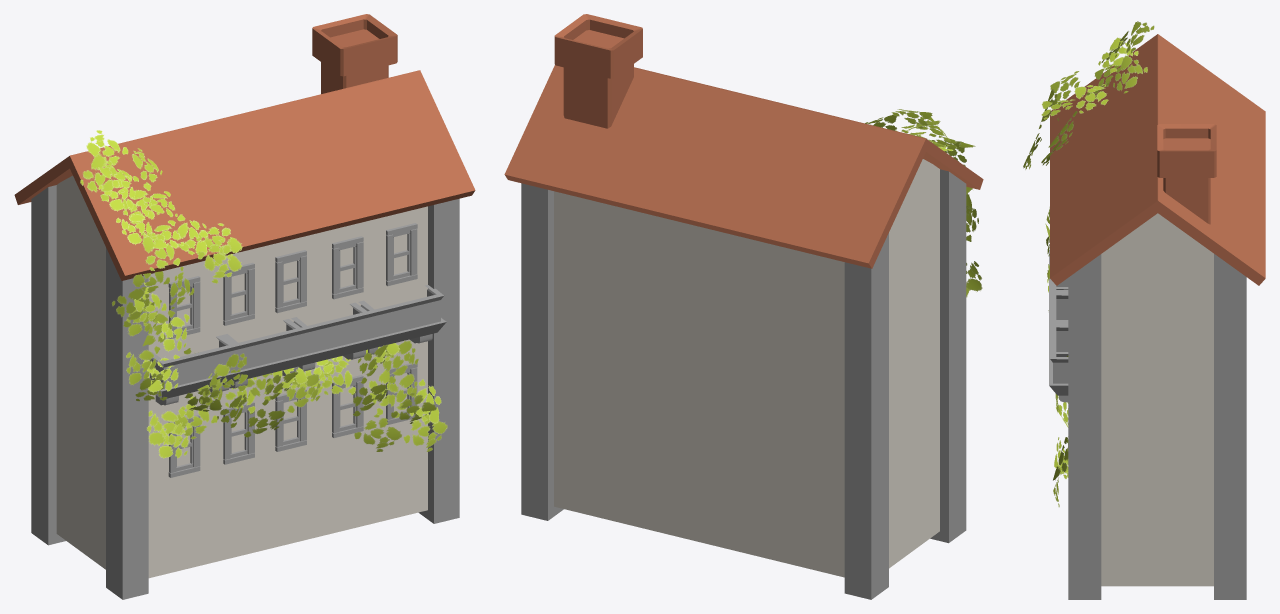
Rendered from DowntownHouse2_Low.fbx.
3 views of the same model, side by side, from view 1: azimuth 30°, elevation 25°; view 2: azimuth 150°, elevation 25°; view 3: azimuth 270°, elevation 25° (orthographic). The views are drawn at different scales.
Parts seen in each view (by area): view 1: Balcony5, polySurface90; view 2: Balcony5, polySurface90; view 3: Balcony5, polySurface90.
Boxes of the visible parts, x1=… form: Balcony5: x1=31, y1=130, x2=459, y2=599; polySurface90: x1=14, y1=14, x2=475, y2=280; Balcony5: x1=521, y1=109, x2=982, y2=599; polySurface90: x1=504, y1=14, x2=983, y2=268; Balcony5: x1=1023, y1=21, x2=1246, y2=599; polySurface90: x1=1050, y1=34, x2=1265, y2=285.
Size of the model in its own units: 35.94 by 42.69 by 21.62.
